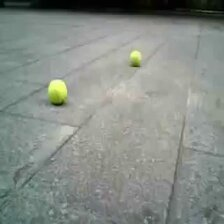tennis: (47, 80, 67, 103), (129, 50, 140, 66)
